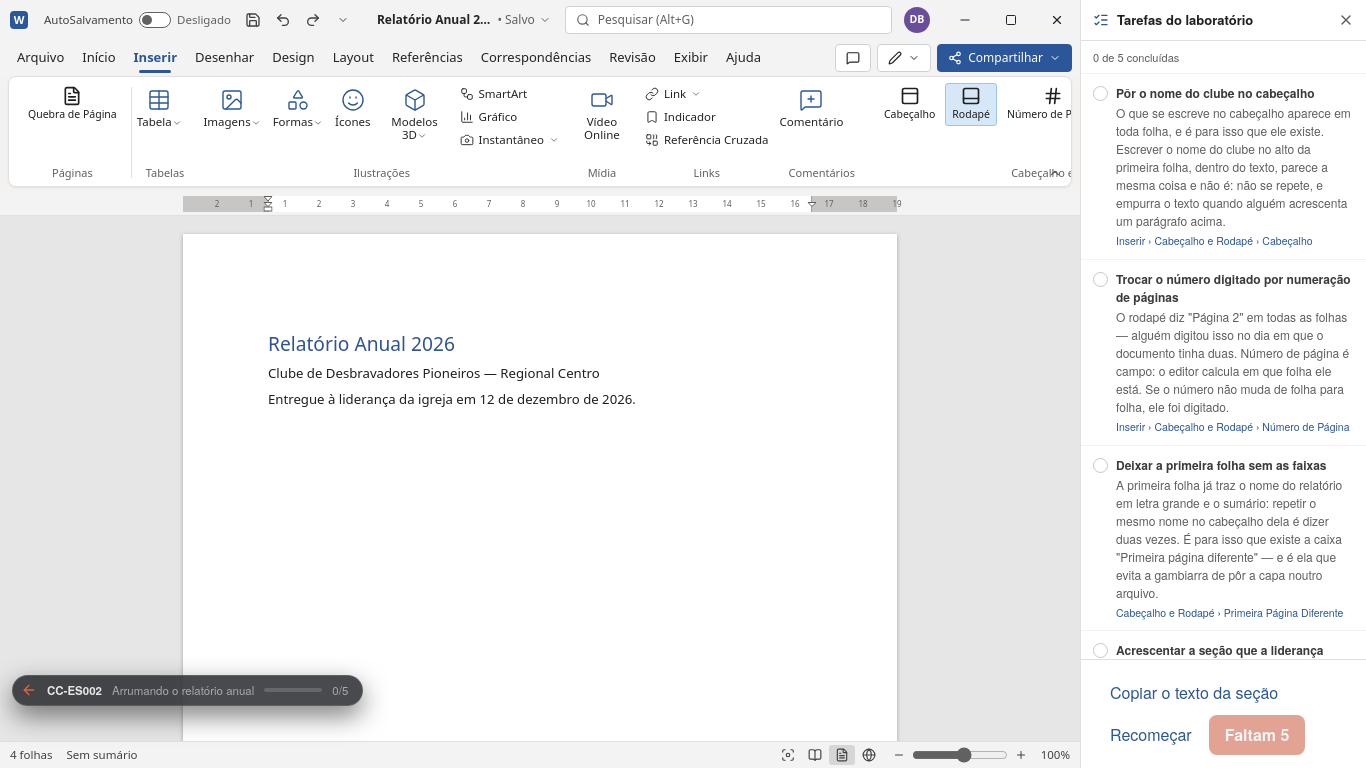
it: o sumário fica embaixo do título › e a folha 2 não ganha um sumário só por ser folha
Click the tab with class "wd-guia" showing "Referências". click: x=427, y=58
box: [383,40,472,76]
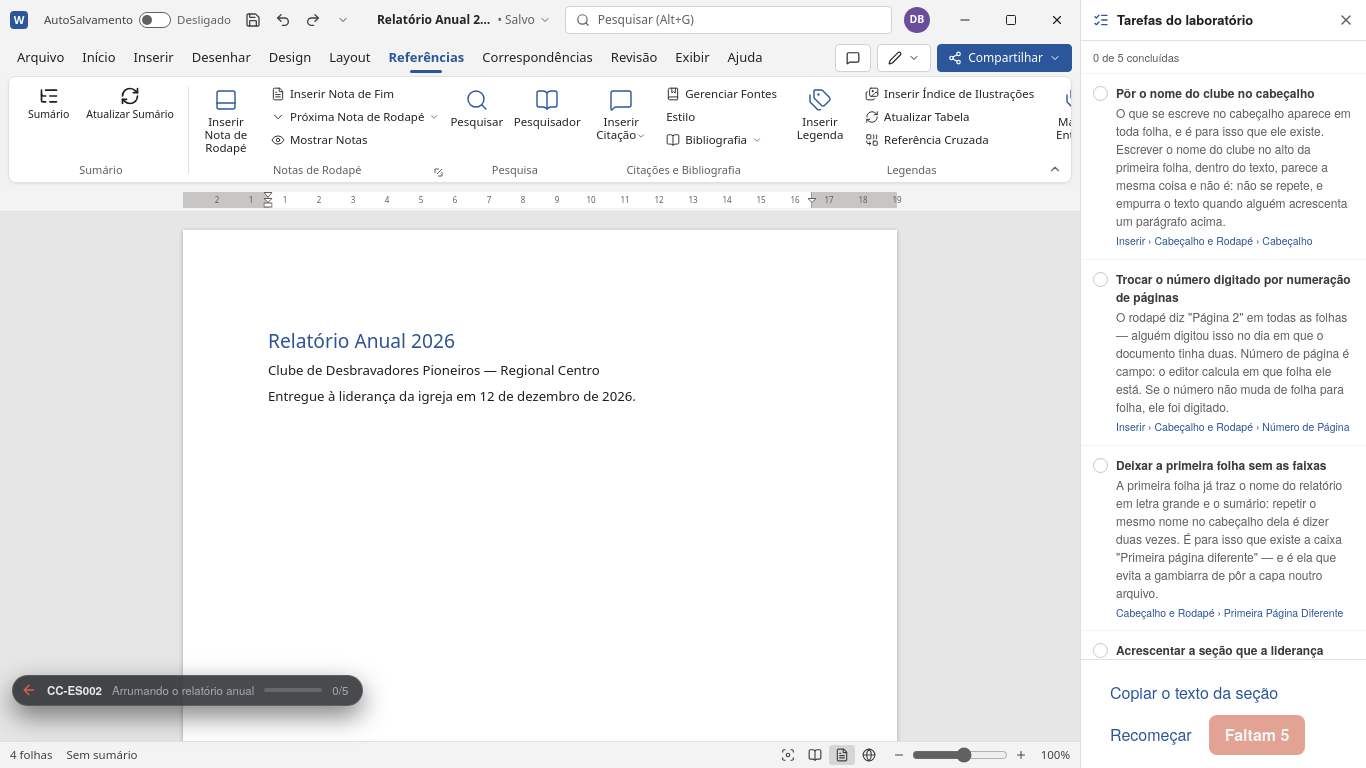
Expected: the button "Sumário" is shown
Click the button "Sumário". click: x=49, y=104
box: [21,83,76,126]
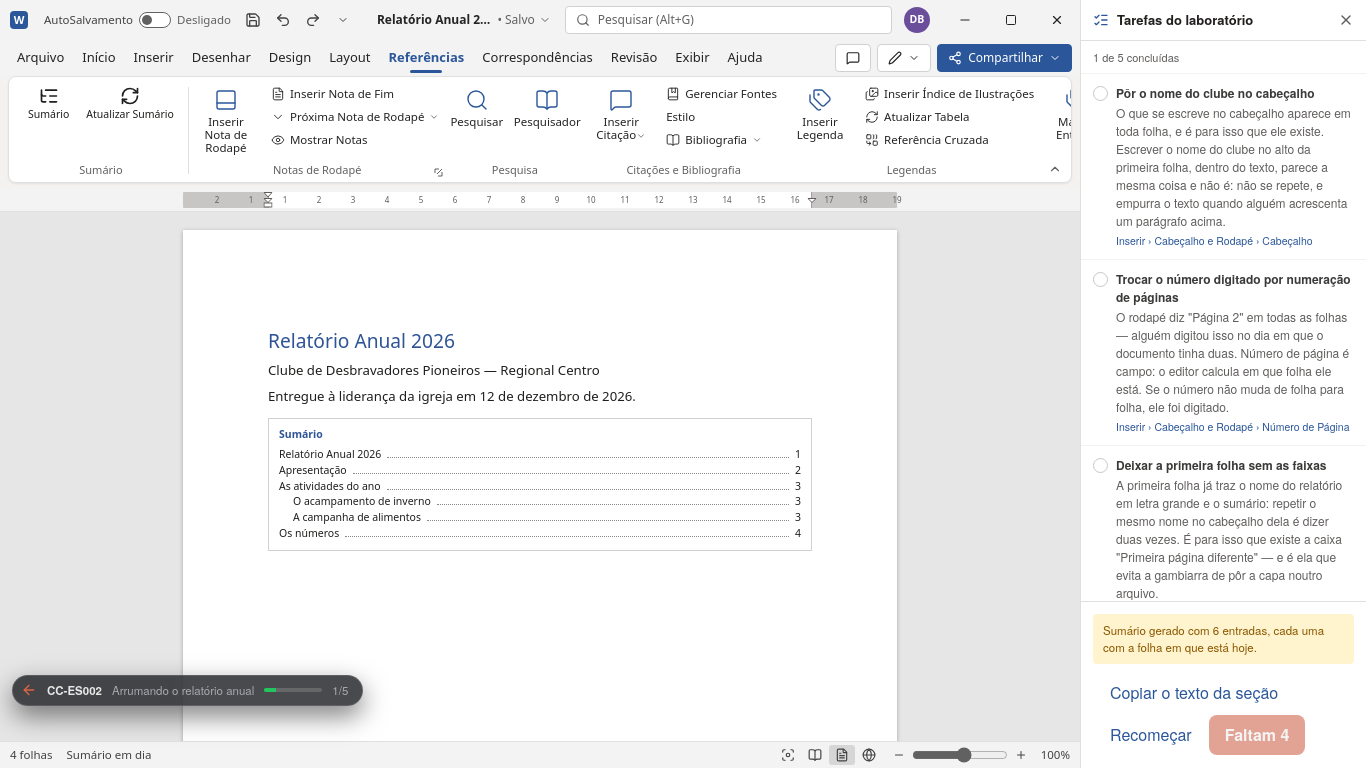
Expected: the number of elements with class "wd-sumario" is 1, [268,418,812,551]
